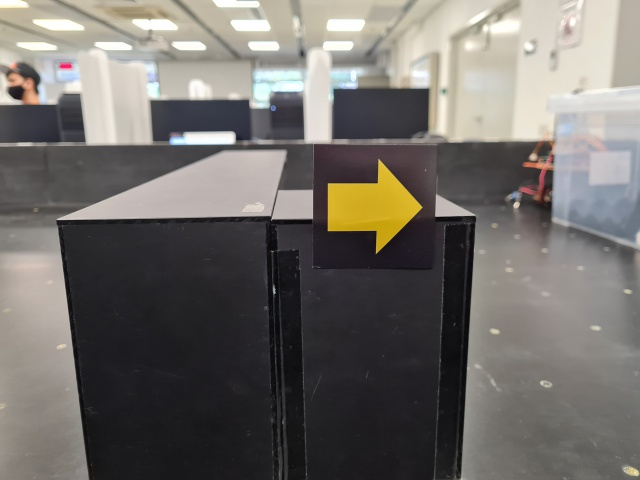right_arrow: (311, 141, 435, 271)
